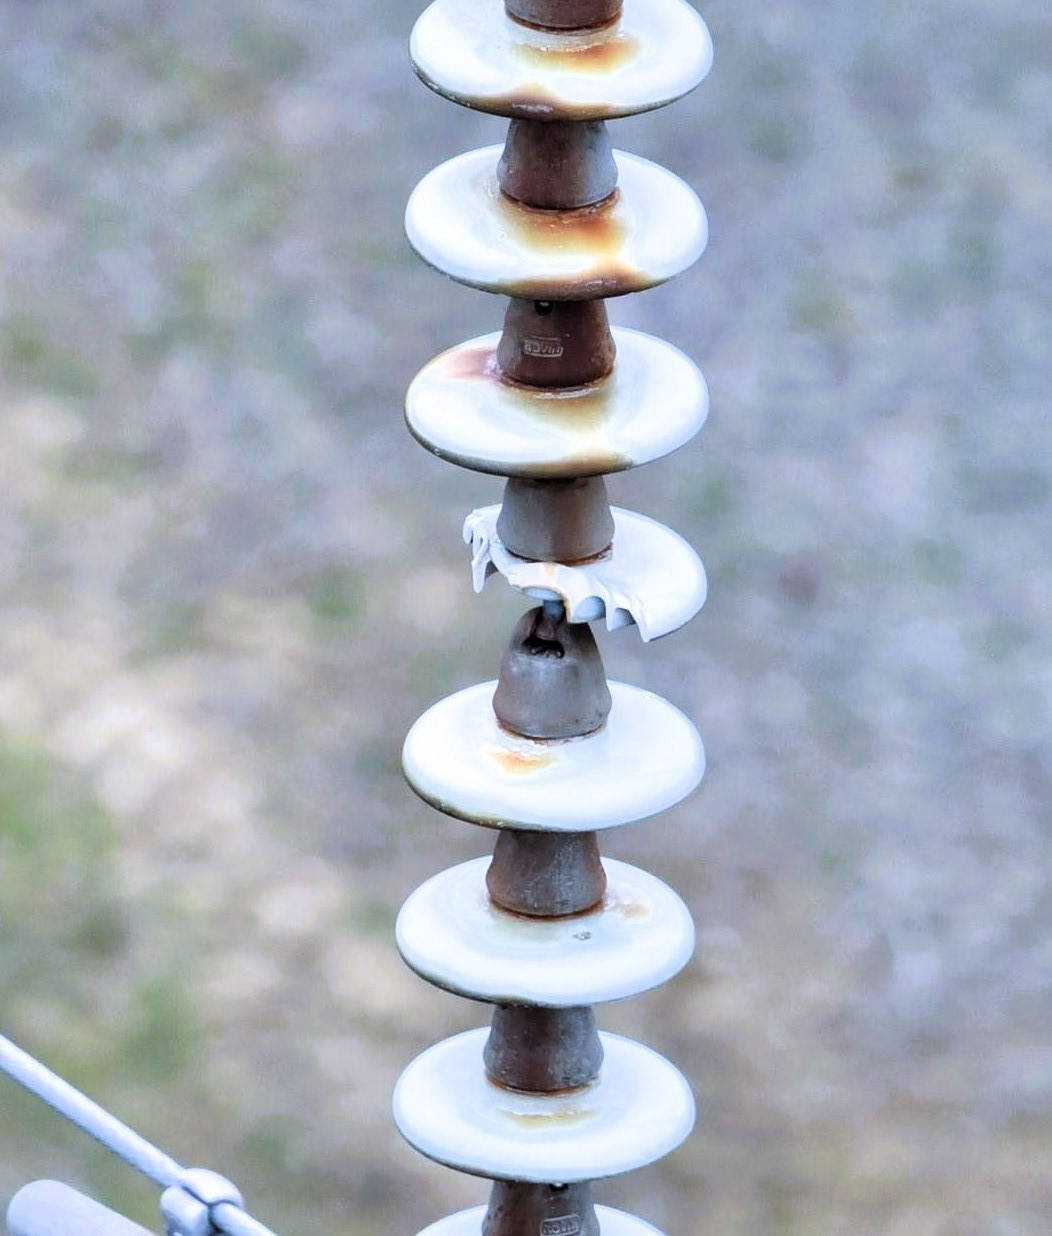insulator breakage: (437, 494, 717, 655)
